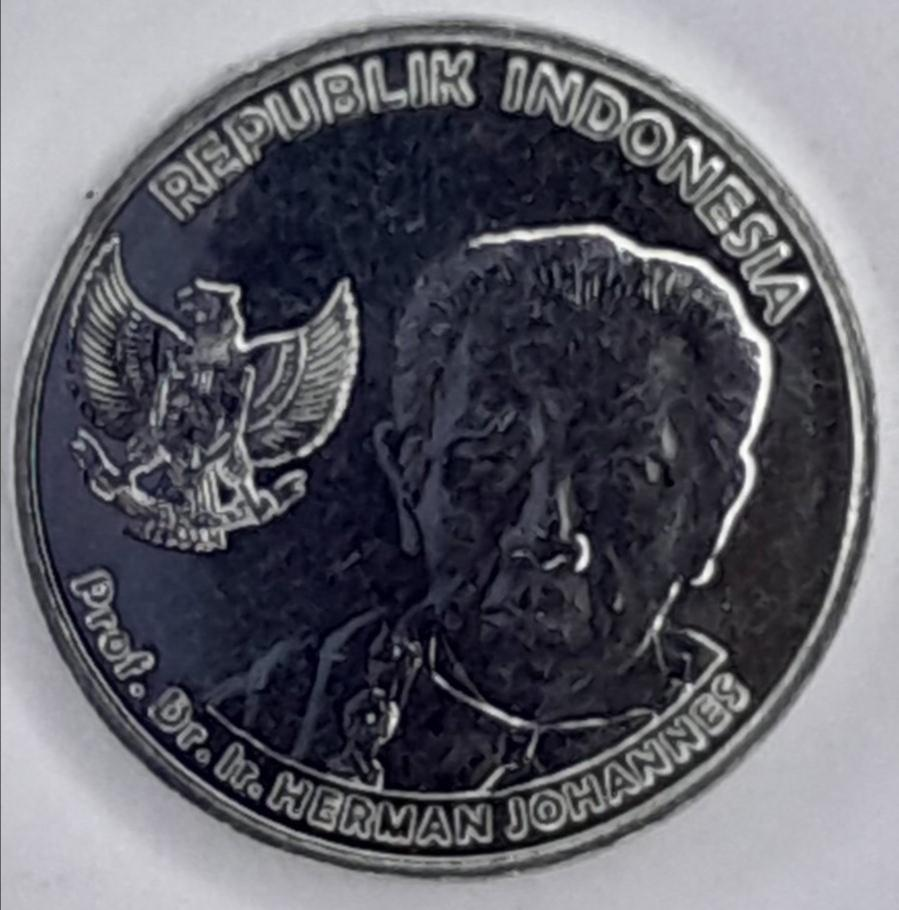coin_100_e2016: (8, 14, 880, 878)
